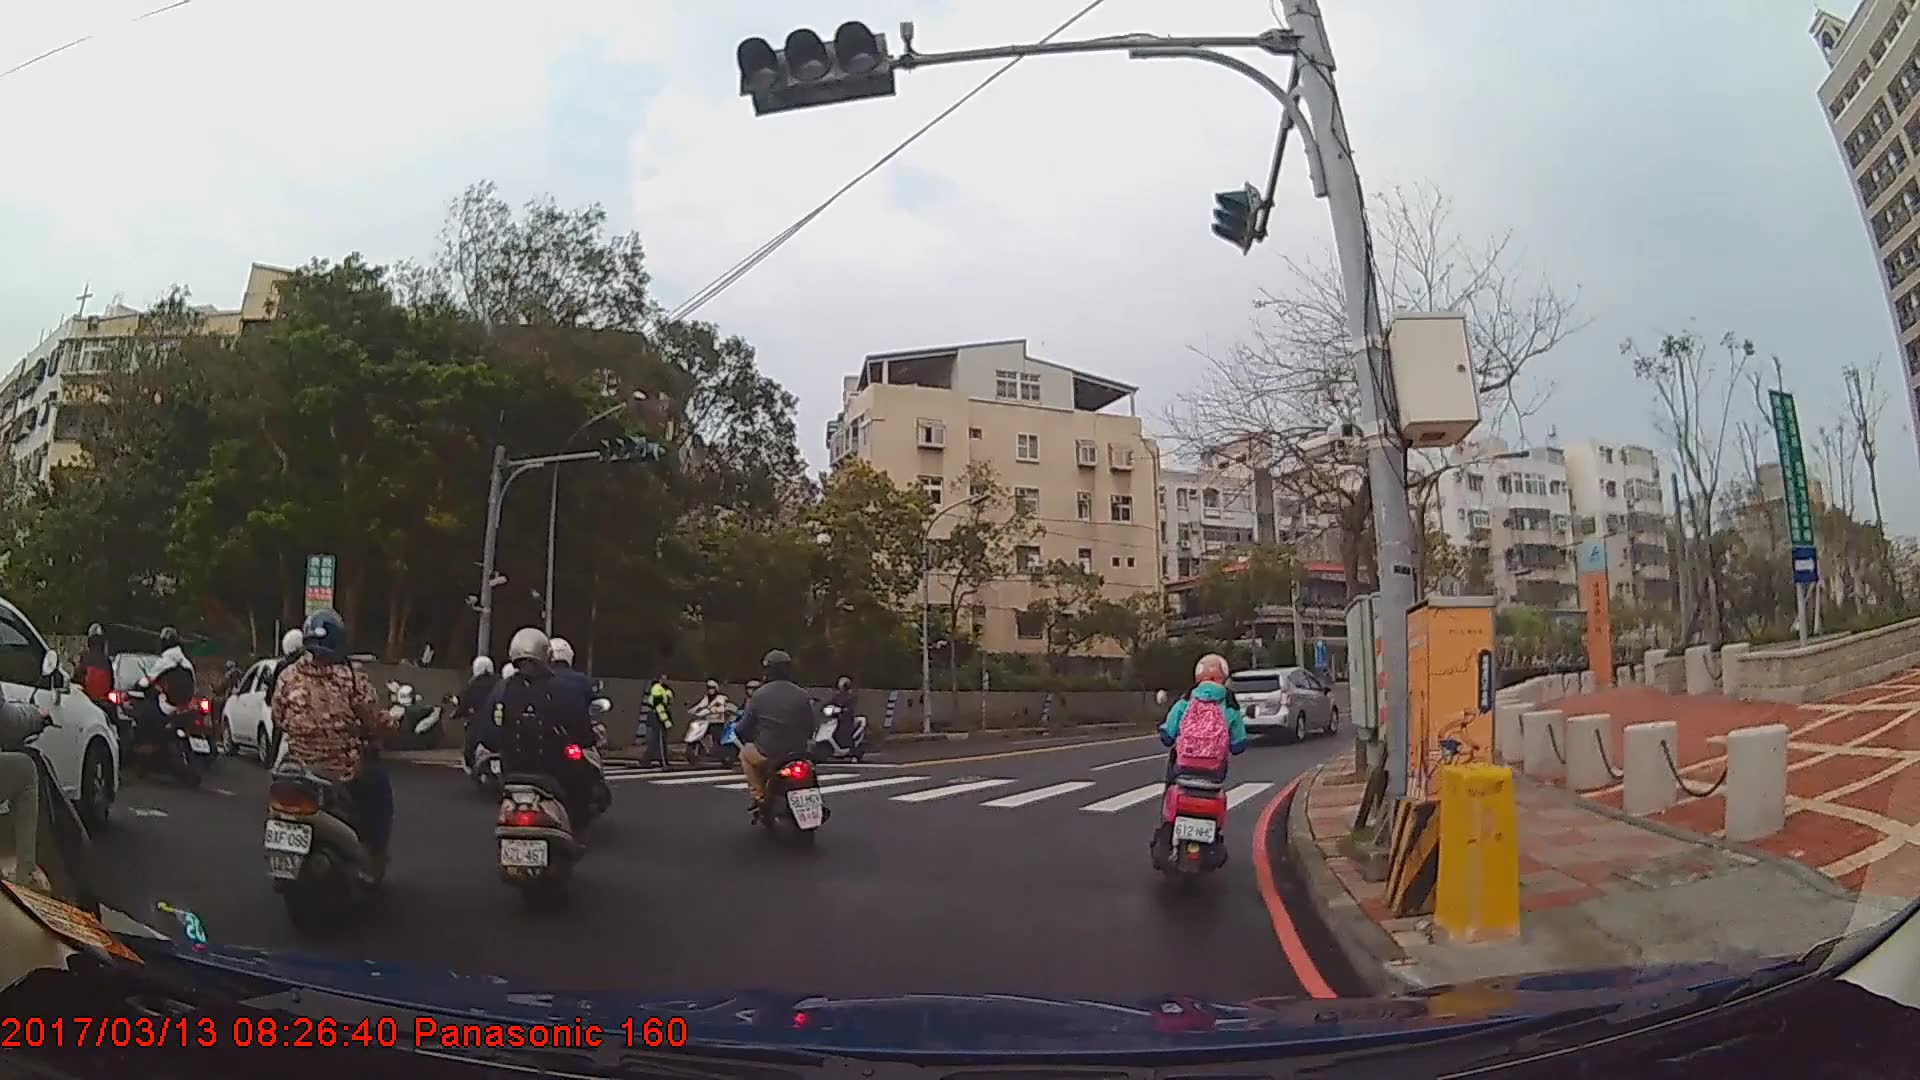pedestrian: (638, 671, 680, 775)
rider: (257, 611, 399, 927), (479, 627, 597, 905), (1155, 652, 1251, 883), (736, 648, 834, 851), (529, 637, 612, 829), (444, 657, 522, 797), (134, 626, 201, 785), (56, 625, 117, 769), (814, 678, 868, 765), (681, 678, 735, 760)
vehicle: (0, 600, 119, 834), (222, 659, 352, 766), (96, 651, 211, 765), (1215, 664, 1338, 744)
